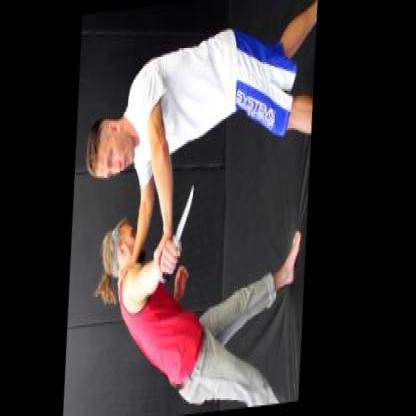knife: (159, 180, 203, 286)
